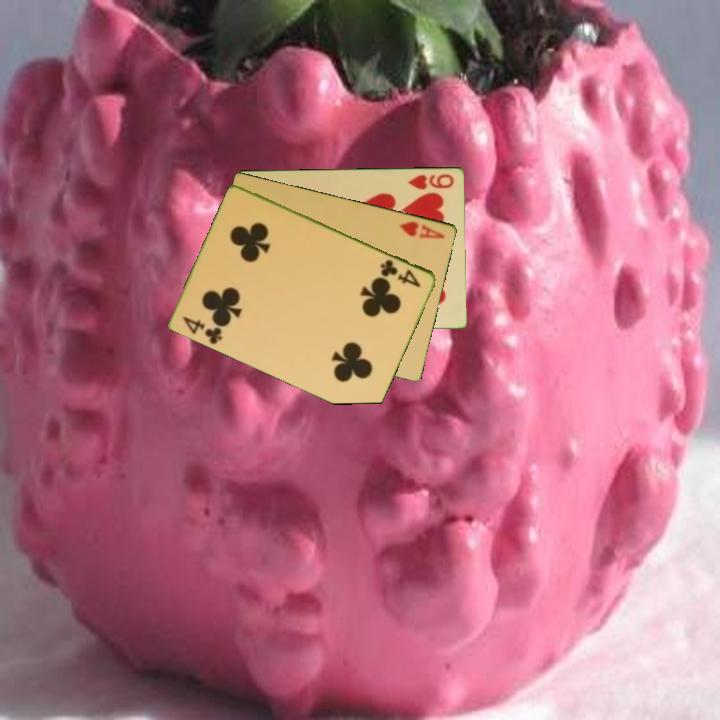4c: (377, 255, 424, 290), (180, 312, 226, 347)
9h: (405, 170, 457, 192)
Ah: (396, 217, 448, 241)
